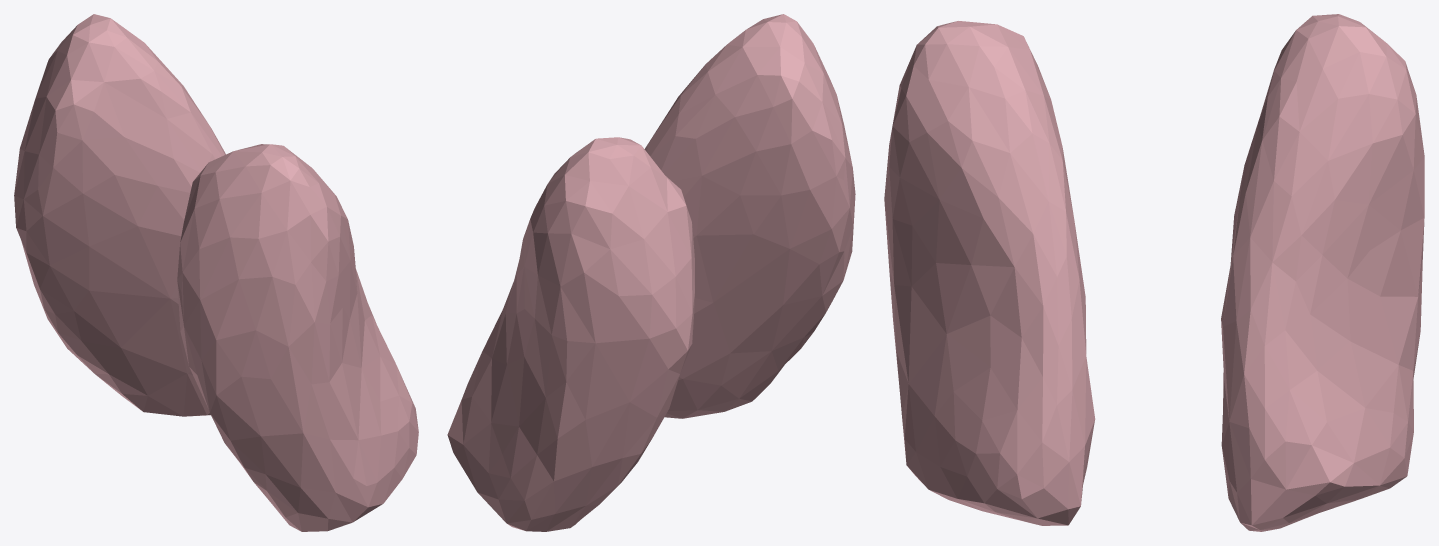
3 views of the same model, side by side, from view 1: azimuth 30°, elevation 25°; view 2: azimuth 150°, elevation 25°; view 3: azimuth 270°, elevation 25° (orthographic). The views are drawn at different scales.
Visible parts, largest first — view 1: 15.obj; view 2: 15.obj; view 3: 15.obj.
Boxes of the visible parts, x1,y1,x2,y2 form: 15.obj: (14, 14, 418, 531); 15.obj: (447, 14, 855, 531); 15.obj: (884, 14, 1424, 531).
Size of the model in its own units: 629 by 938 by 1027.
